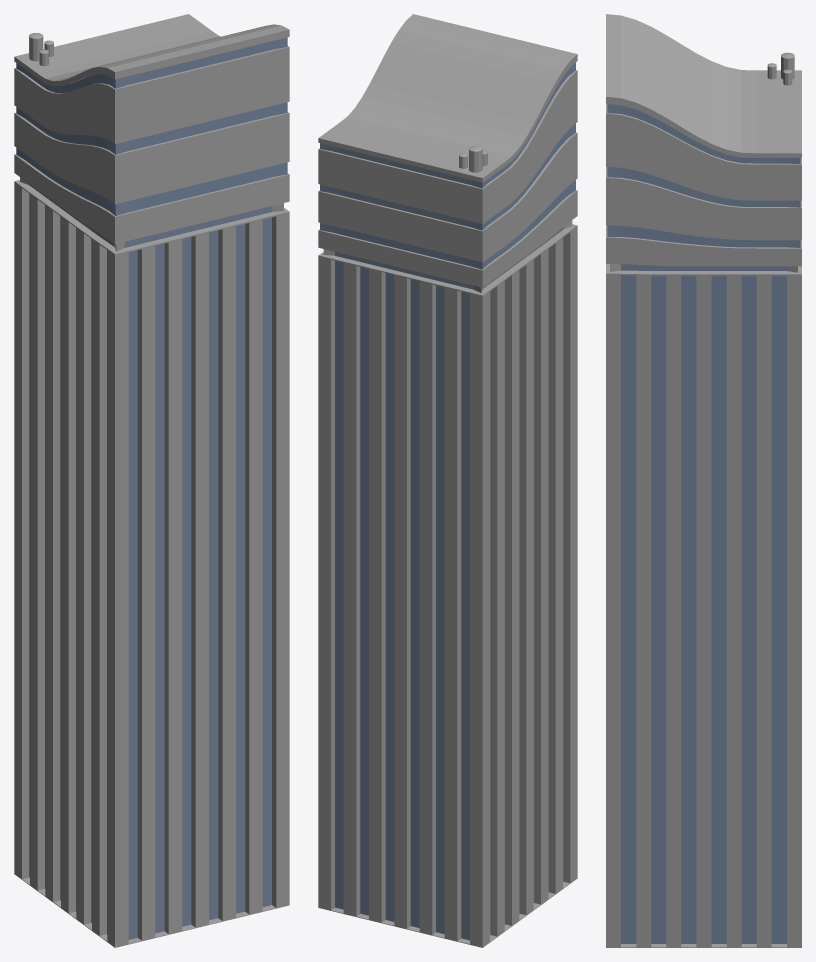
The model's file is Skyscraper1.fbx.
3 views of the same model, side by side, from view 1: azimuth 30°, elevation 25°; view 2: azimuth 150°, elevation 25°; view 3: azimuth 270°, elevation 25° (orthographic). The views are drawn at different scales.
Visible parts, largest first — view 1: Skyscraper3; view 2: Skyscraper3; view 3: Skyscraper3.
Boxes of the visible parts, left/top/right/bottom form: Skyscraper3: left=14, top=14, right=289, bottom=947; Skyscraper3: left=318, top=14, right=577, bottom=947; Skyscraper3: left=606, top=14, right=801, bottom=947.
Size of the model in its own units: 2.48 by 11.88 by 2.48.
